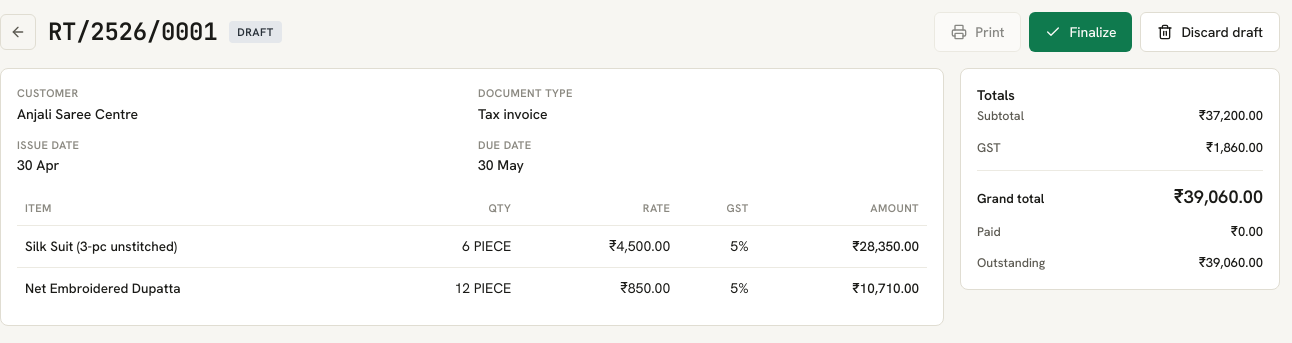
Test: Invoice flow: Create -> Finalize -> Detail › finalizes an existing draft from the detail page
This screenshot has width=1292, height=343.
Expected: the text "Draft" is shown, [229,21,282,43]
Click the button "Finalize": (1081, 32) [1030,12,1132,52]
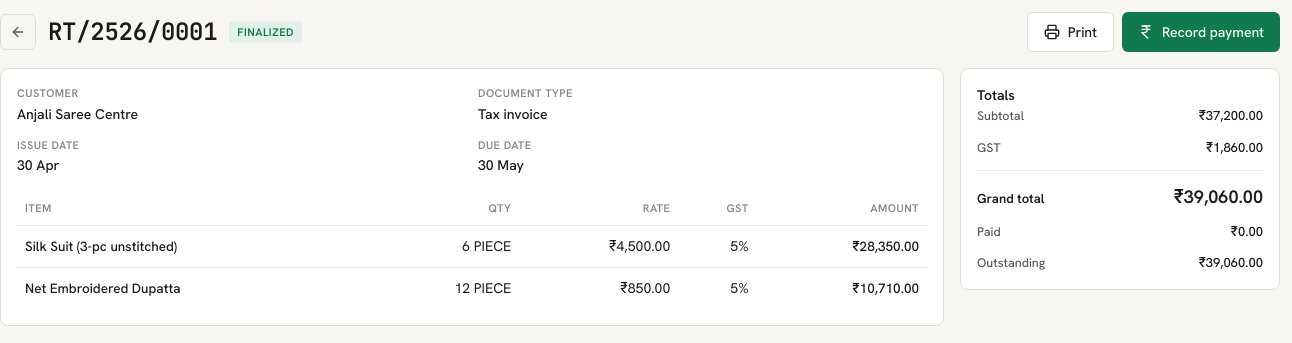
Now the text "Finalized" is shown, box [229,21,302,43]
